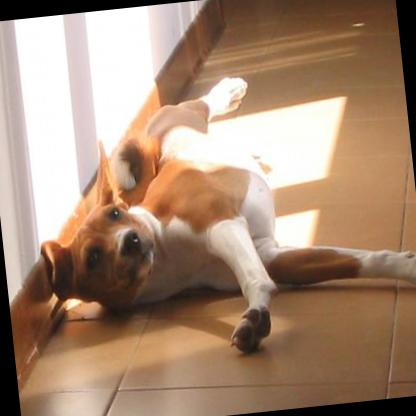basenji: (22, 55, 416, 373)
